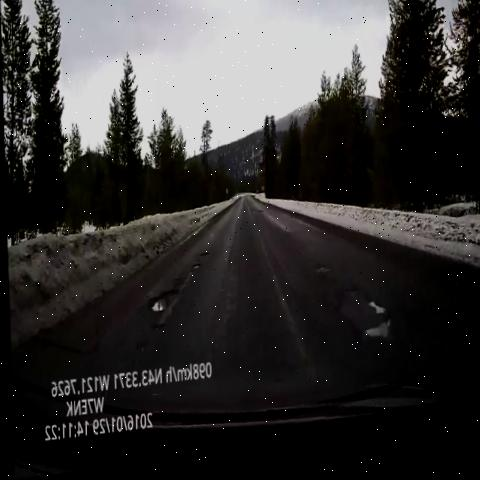pothole: (317, 274, 404, 383), (141, 277, 187, 339), (188, 249, 214, 263), (252, 209, 270, 229), (184, 263, 204, 278)
